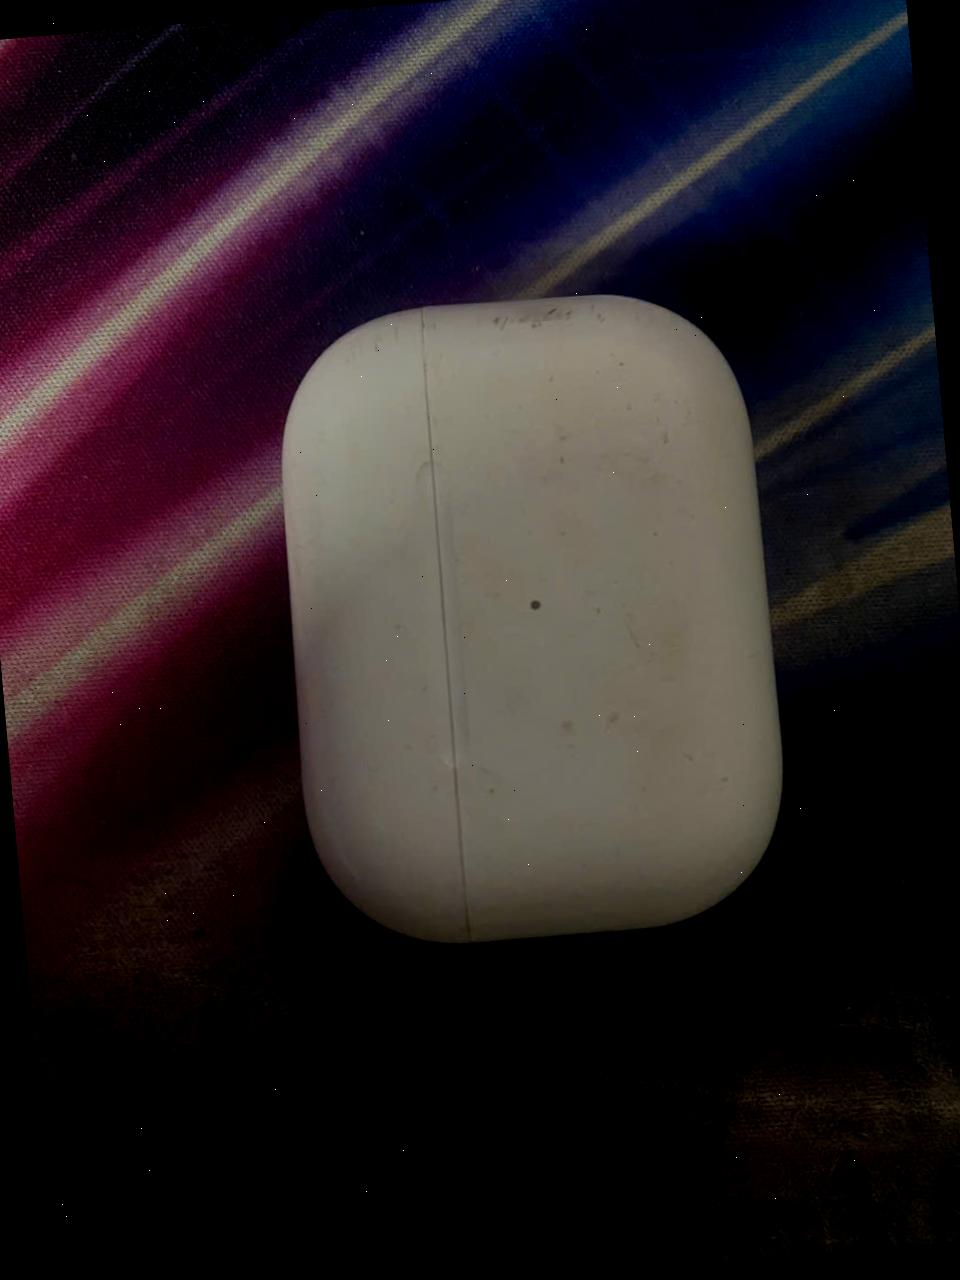airpod: (282, 296, 782, 942)
